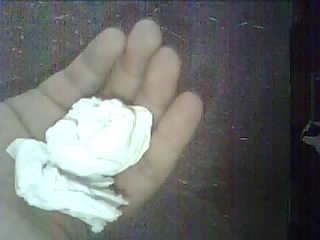paper: (8, 98, 152, 232)
